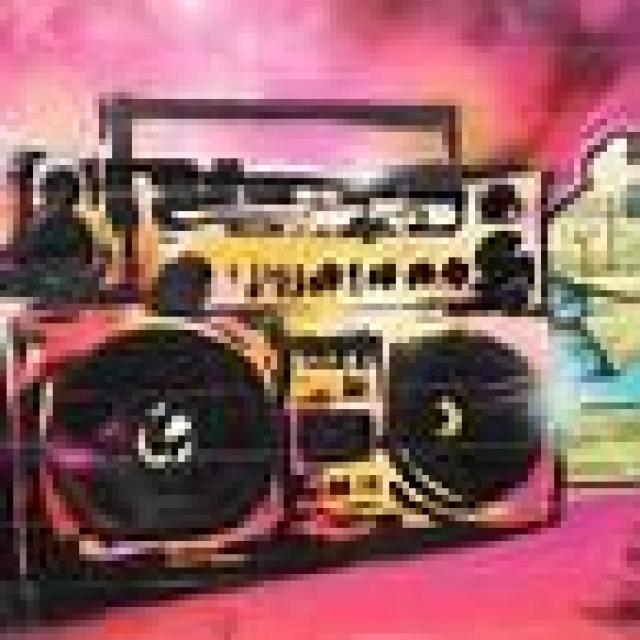nonspitting: (0, 92, 568, 626)
